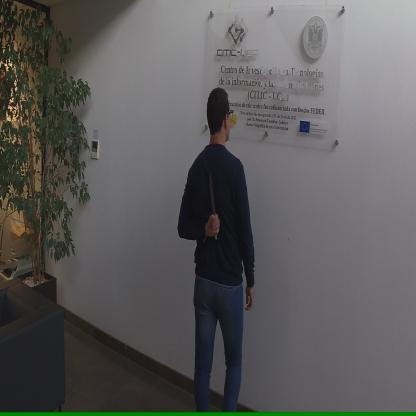knife: (206, 171, 221, 241)
